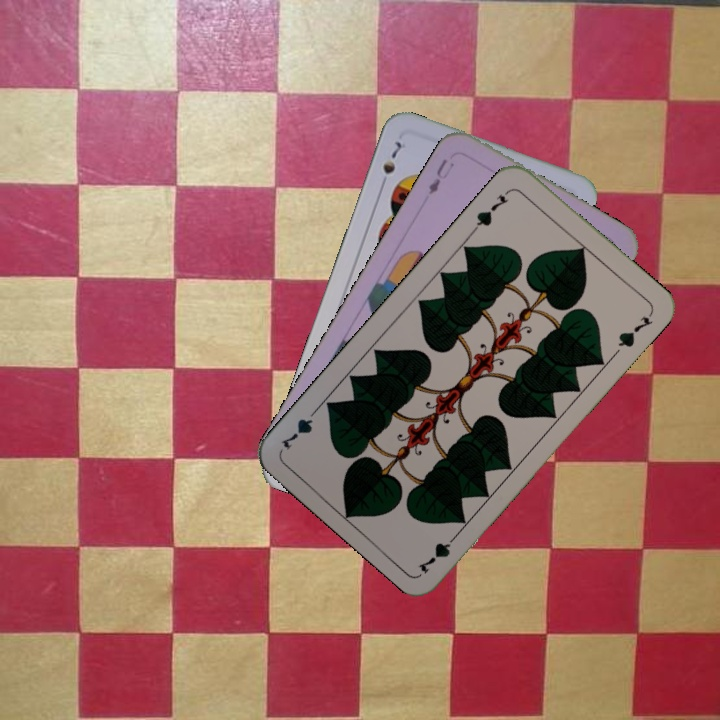EU: (424, 154, 457, 198)
G7: (414, 527, 463, 576), (469, 186, 514, 234)
S7: (376, 137, 404, 191)
